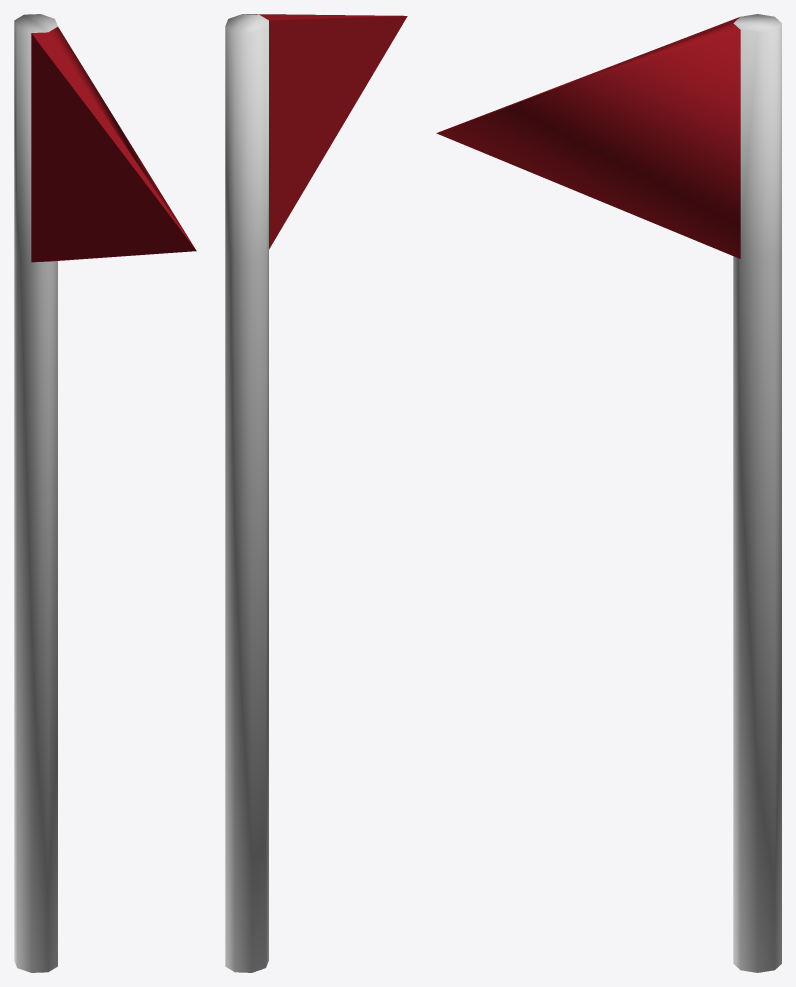
The model's file is flag.fbx.
3 views of the same model, side by side, from view 1: azimuth 30°, elevation 25°; view 2: azimuth 150°, elevation 25°; view 3: azimuth 270°, elevation 25° (orthographic).
Parts seen in each view (by area): view 1: 円柱; view 2: 円柱; view 3: 円柱.
Boxes of the visible parts, x1=… form: 円柱: x1=14, y1=14, x2=196, y2=972; 円柱: x1=225, y1=14, x2=407, y2=972; 円柱: x1=436, y1=14, x2=781, y2=972.
Size of the model in its own units: 12.61 by 300 by 100.
